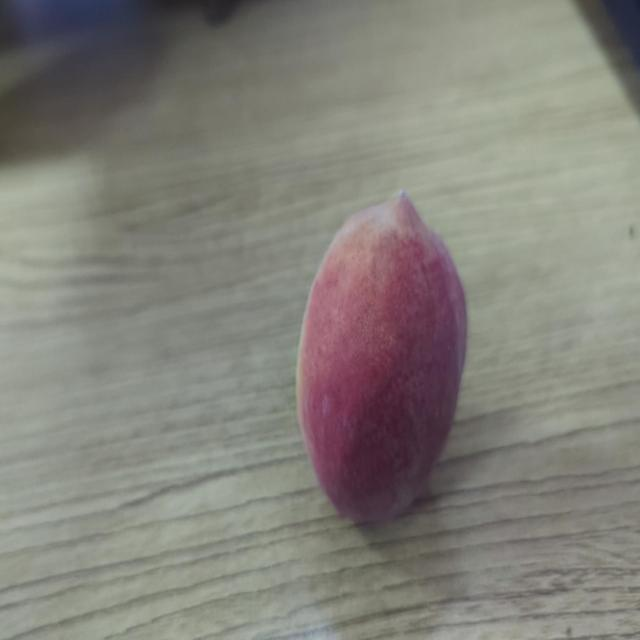Persik: (296, 185, 472, 530)
